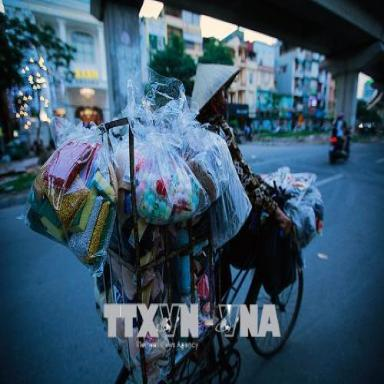plasticbag: (27, 70, 239, 270)
